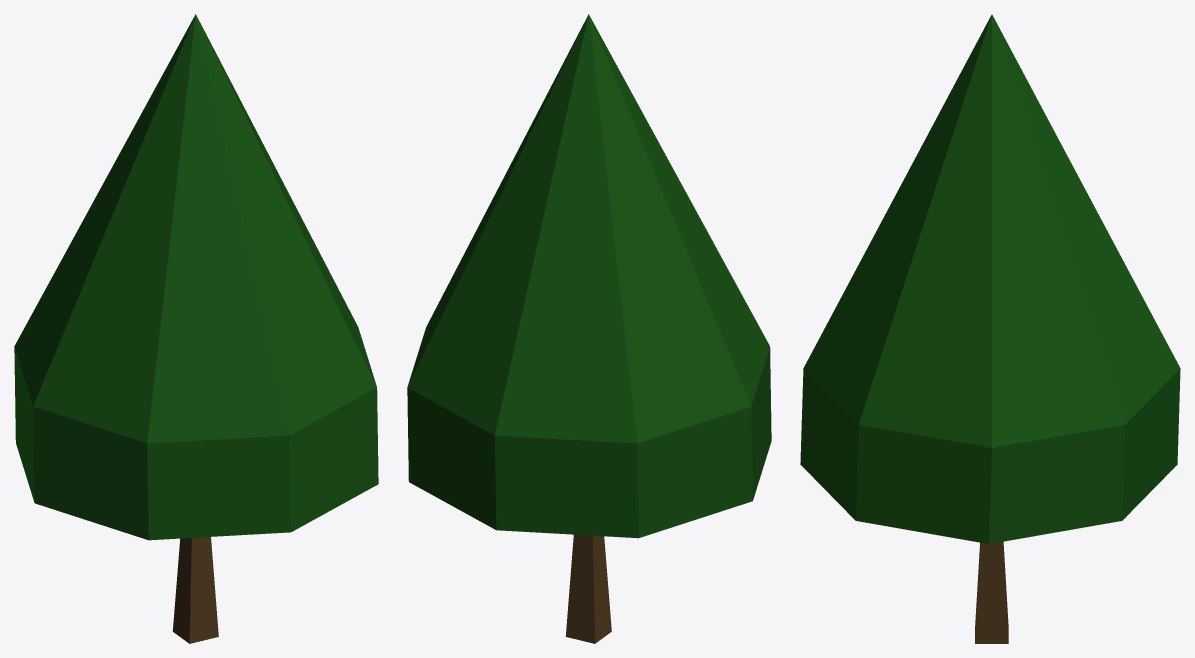
The model's file is Tree.fbx.
3 views of the same model, side by side, from view 1: azimuth 30°, elevation 25°; view 2: azimuth 150°, elevation 25°; view 3: azimuth 270°, elevation 25° (orthographic).
Visible parts, largest first — view 1: Cone.002, Plane.006; view 2: Cone.002, Plane.006; view 3: Cone.002, Plane.006.
Part boxes in pixels (box(x1,y1,x2,y2)): Cone.002: box(14, 14, 378, 540); Plane.006: box(172, 537, 218, 643); Cone.002: box(407, 14, 771, 538); Plane.006: box(565, 534, 611, 643); Cone.002: box(800, 14, 1180, 543); Plane.006: box(975, 541, 1008, 643).
Size of the model in its own units: 216 by 393 by 217.
